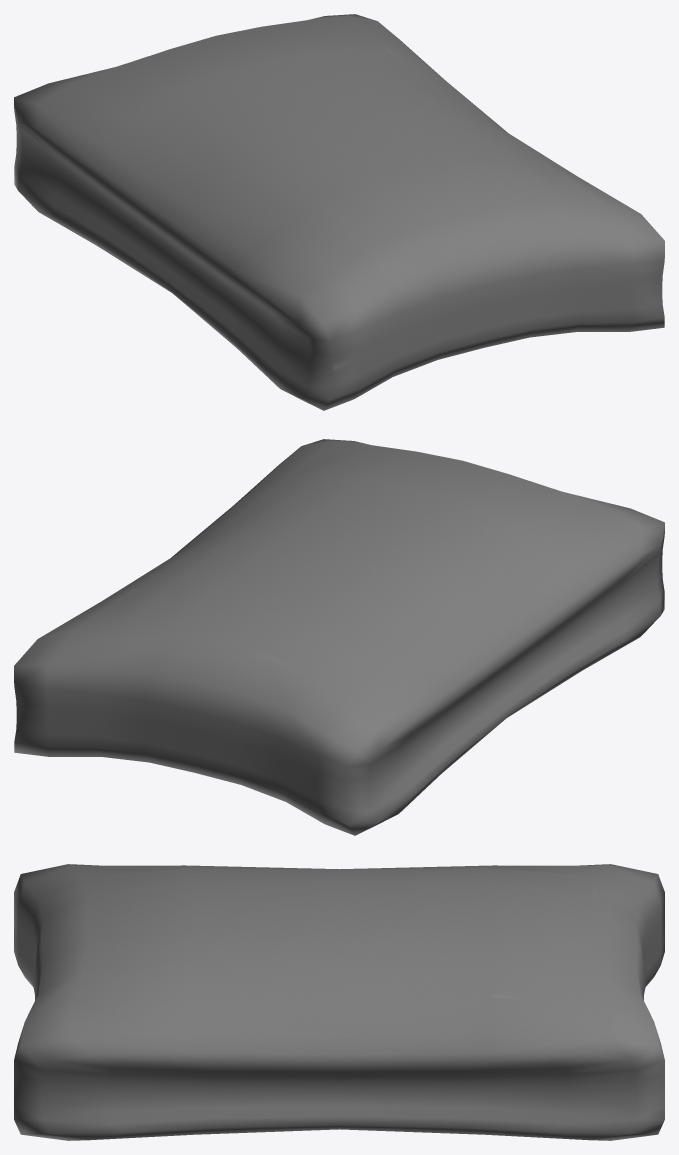
Rendered from _finalPillow.fbx.
3 views of the same model, one above another, from view 1: azimuth 30°, elevation 25°; view 2: azimuth 150°, elevation 25°; view 3: azimuth 270°, elevation 25° (orthographic). The views are drawn at different scales.
Parts seen in each view (by area): view 1: Pillow; view 2: Pillow; view 3: Pillow.
Boxes of the visible parts, x1,y1,x2,y2 form: Pillow: [14, 14, 664, 410]; Pillow: [14, 439, 664, 835]; Pillow: [14, 864, 664, 1140].
Bounding box in the file's own units: 152 × 59.55 × 229.
1 material, 1 textured.
